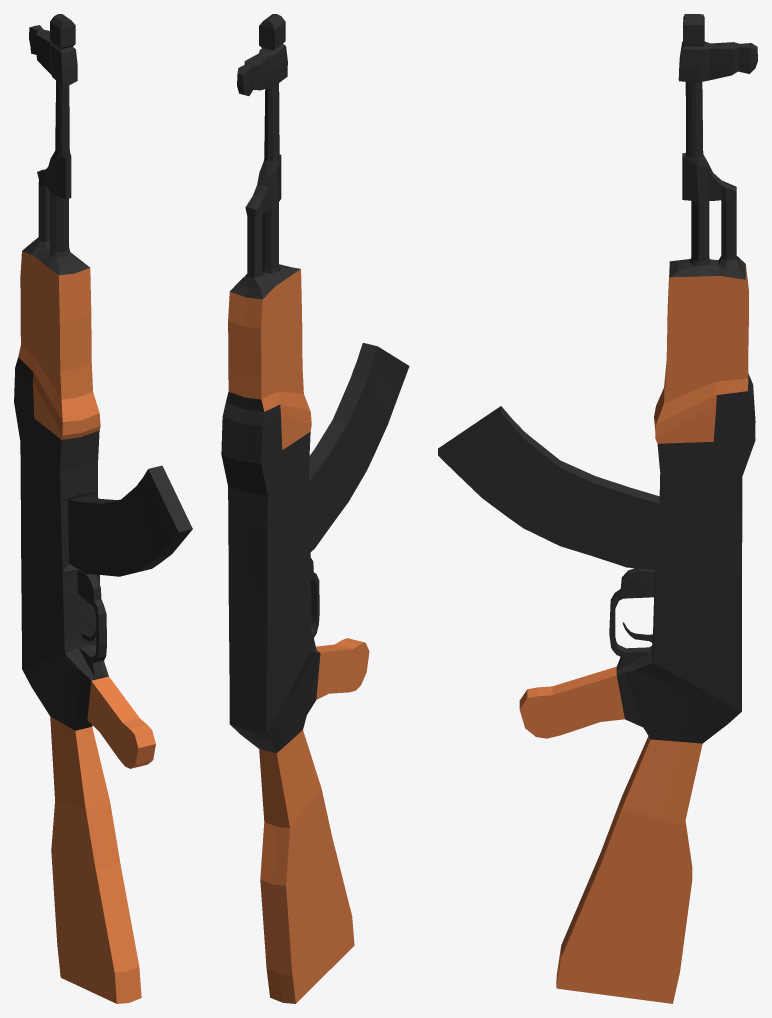
3 views of the same model, side by side, from view 1: azimuth 30°, elevation 25°; view 2: azimuth 150°, elevation 25°; view 3: azimuth 270°, elevation 25° (orthographic). The views are drawn at different scales.
Visible parts, largest first — view 1: Cube; view 2: Cube; view 3: Cube.
Boxes of the visible parts, x1=… form: Cube: x1=14, y1=14, x2=192, y2=1003; Cube: x1=221, y1=14, x2=409, y2=1003; Cube: x1=438, y1=14, x2=757, y2=1003.
Size of the model in its own units: 19.44 by 463 by 136.
